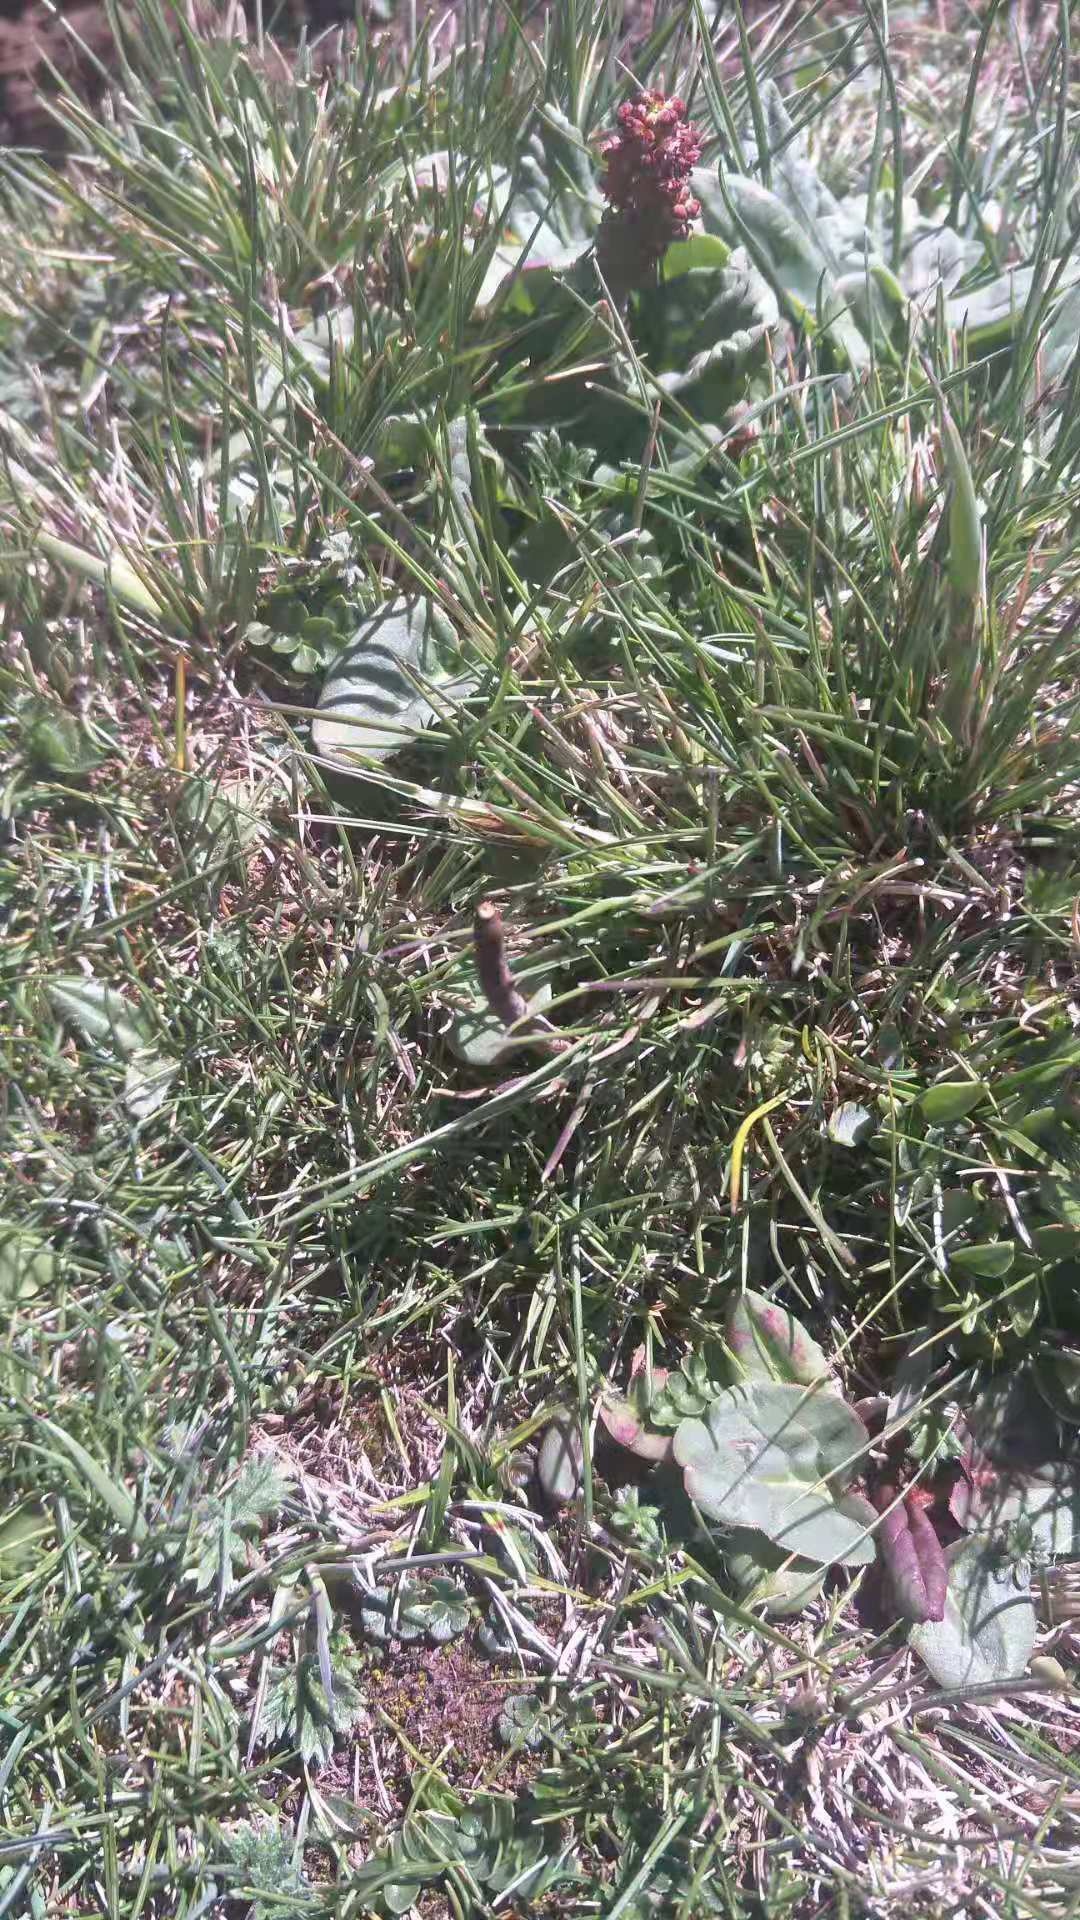cpf: (467, 897, 584, 1065)
